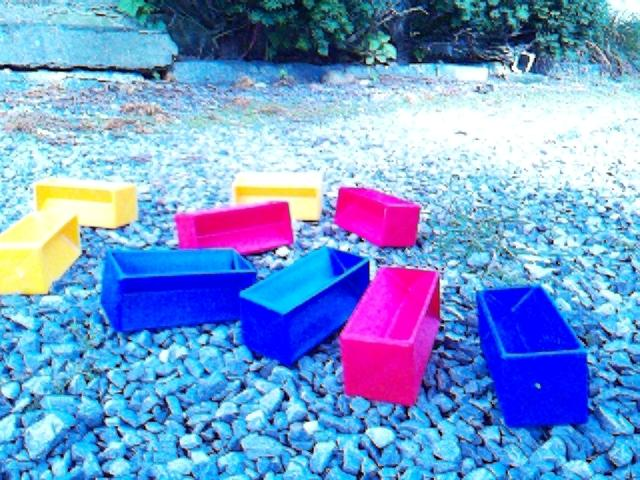blue: (476, 284, 590, 428), (239, 245, 371, 368), (100, 247, 257, 334)
red: (339, 265, 442, 407), (174, 200, 295, 256), (334, 186, 422, 249)
yellow: (1, 207, 83, 296), (33, 177, 139, 230), (232, 170, 324, 222)
